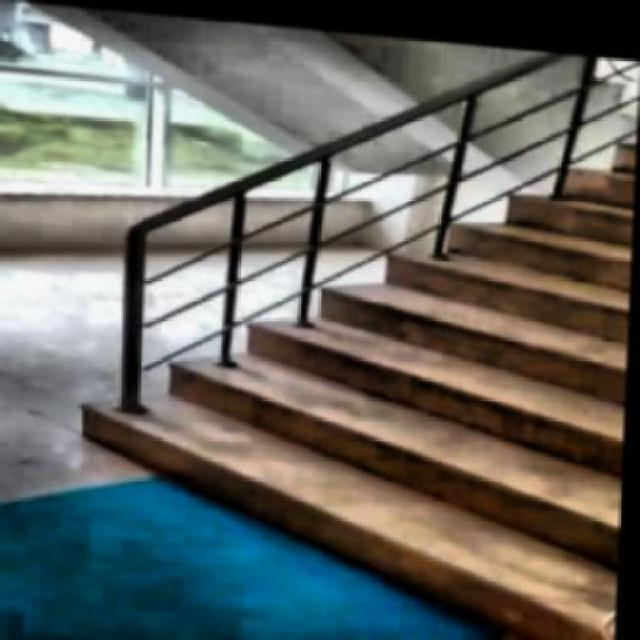stair: (77, 36, 632, 638)
